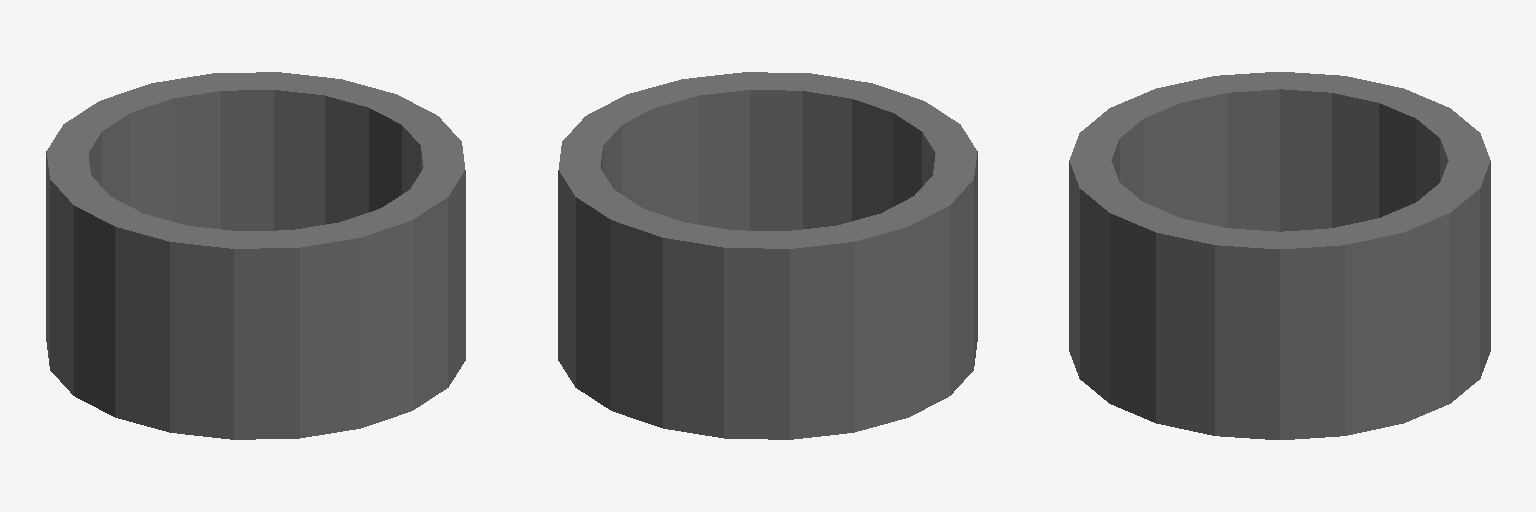
File: whiteCircle.obj
3 renders of one model, left to right at view 1: azimuth 30°, elevation 25°; view 2: azimuth 150°, elevation 25°; view 3: azimuth 270°, elevation 25°, orthographic.
Parts seen in each view (by area): view 1: pPipe4; view 2: pPipe4; view 3: pPipe4.
Boxes of the visible parts, x1,y1,x2,y2 form: pPipe4: [46, 72, 465, 439]; pPipe4: [558, 72, 977, 439]; pPipe4: [1069, 72, 1490, 439].
Bounding box in the file's own units: 2 × 1 × 2.